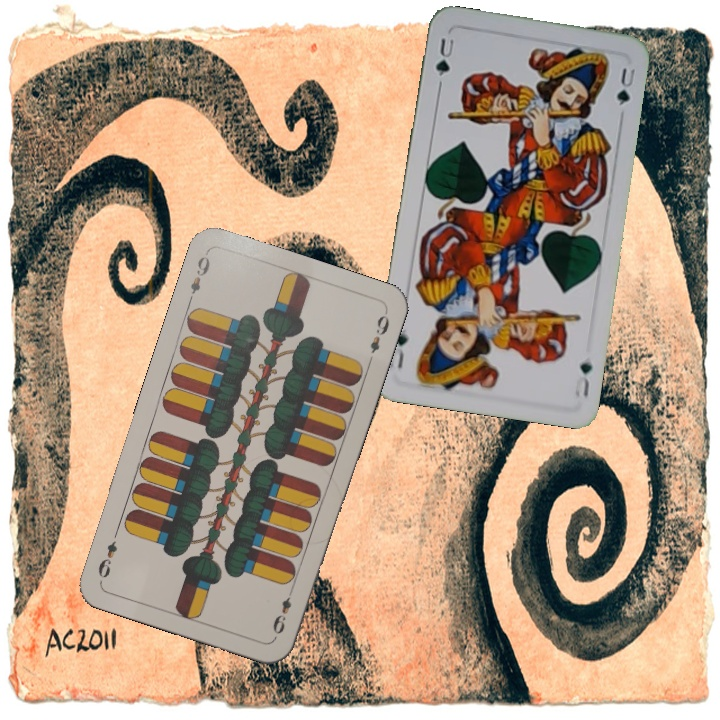E9: (184, 249, 213, 306), (268, 583, 296, 640)
GU: (431, 34, 457, 80), (570, 357, 595, 401)
